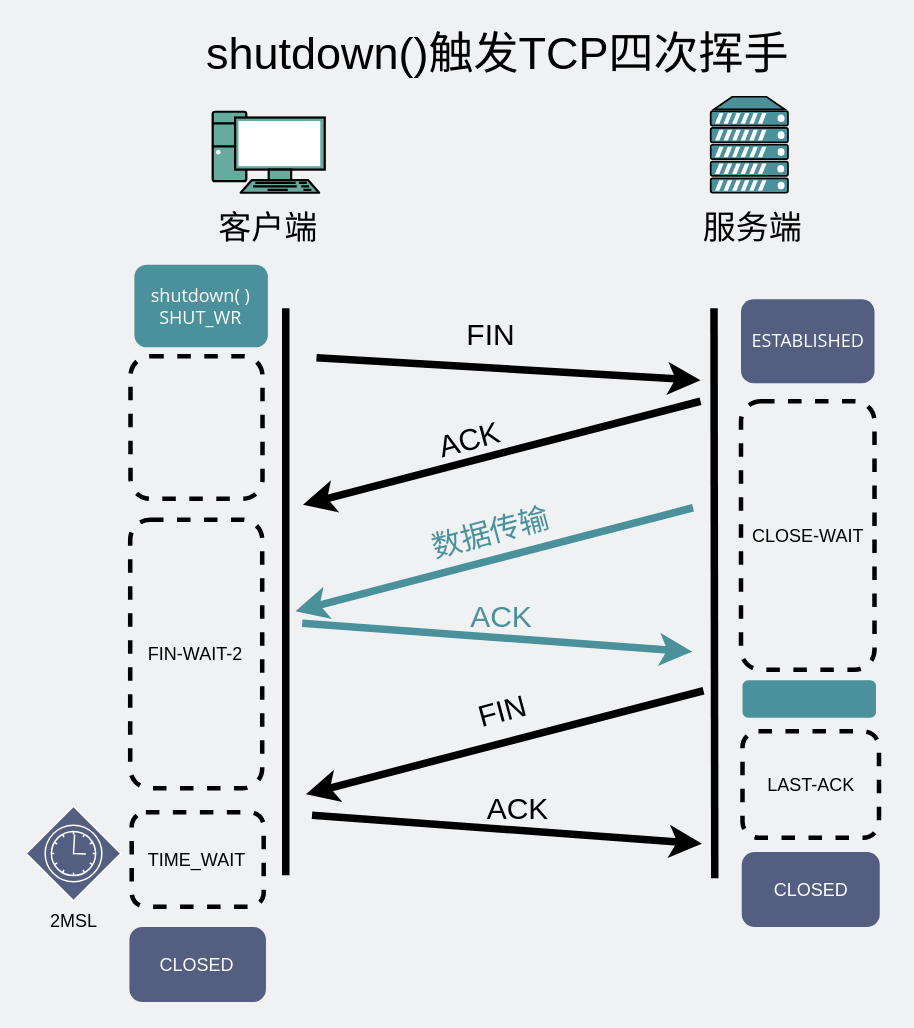
Some shapes in this 914 by 1028 pixel diagram are drawn without their labels. The centre of each missing label's shape, as x and y in pixels:
"close( )" belongs at (808,698).
"FIN-WAIT-1" belongs at (196,426).
